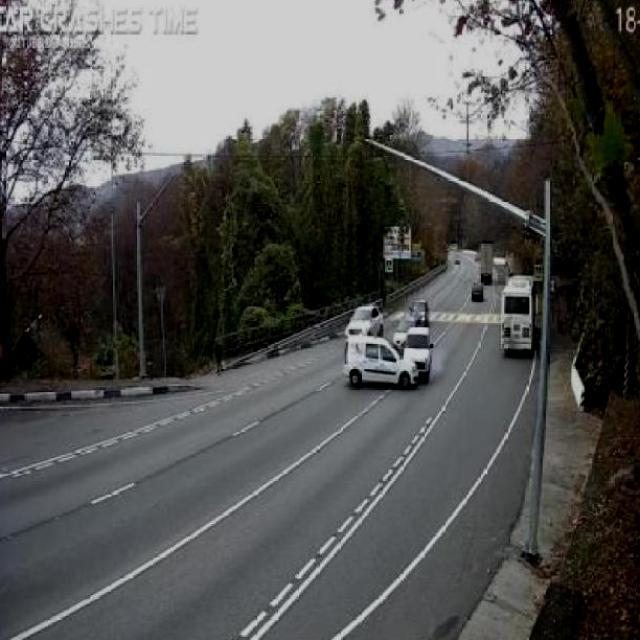accident: (375, 324, 433, 384)
